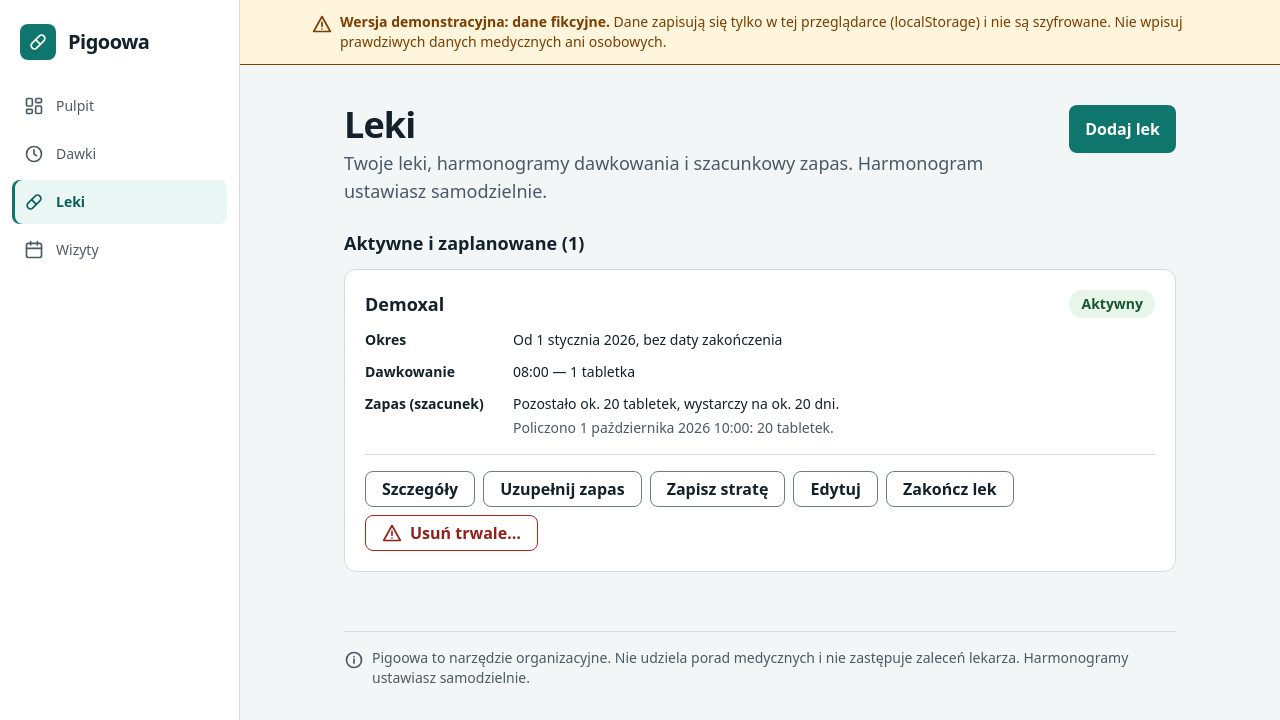
Test case: the waste action › refuses the amount "", says what to type, and records nothing
Click the button named "Zapisz stratę leku Demoxal".
click(718, 489)  # box [650,471,786,507]
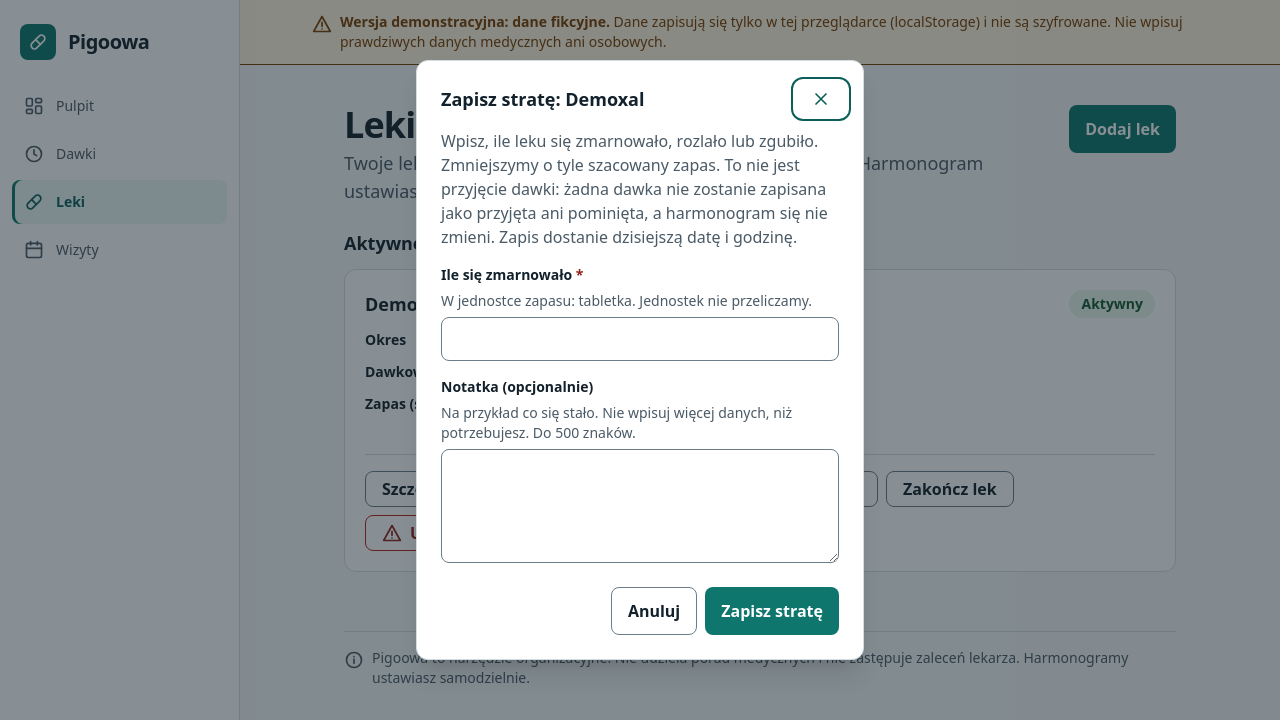
Click the button "Zapisz stratę".
click(772, 611)  # box [705,587,839,635]
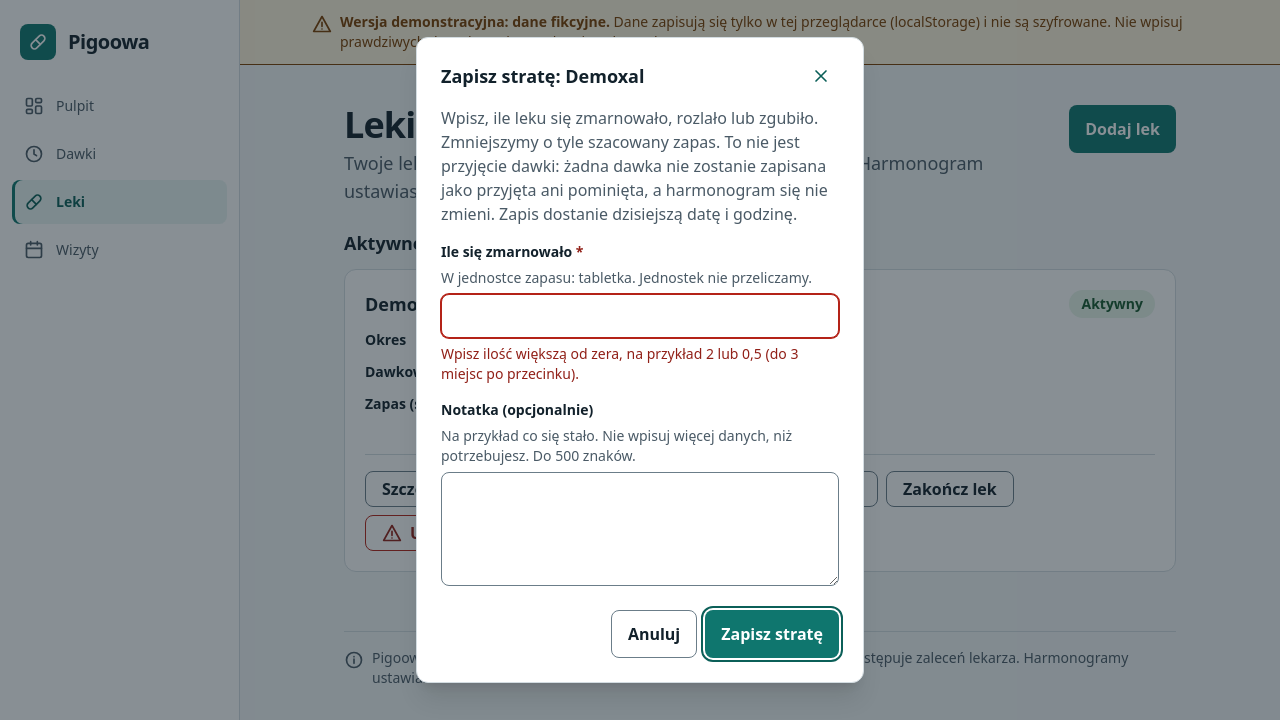
Now the text "Wpisz ilość większą od zera, na przykład 2 lub 0,5 (do 3 miejsc po przecinku)." is shown, box [441,344,839,384]
